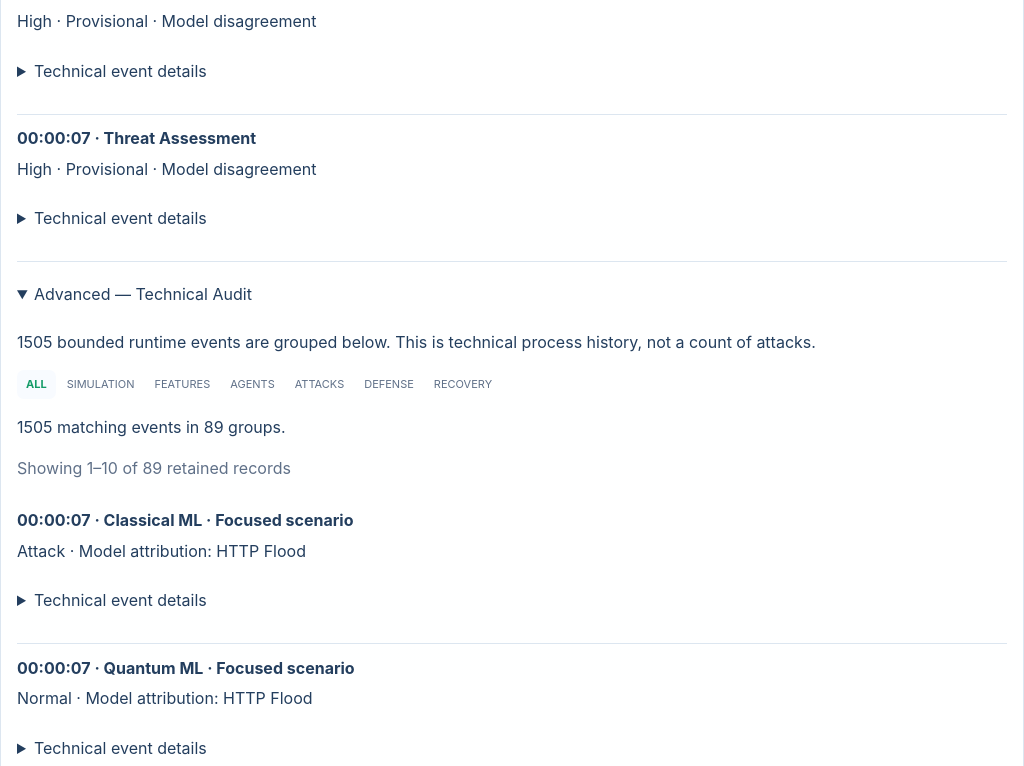
Phase 3 compact evidence hierarchy › defaults to a bounded Important Events view and keeps 1000+ processing events in audit
This screenshot has width=1024, height=766.
(page scrolled)
Click the button "Features".
click(182, 385)  # box left=145, top=370, right=219, bottom=399
(page scrolled)
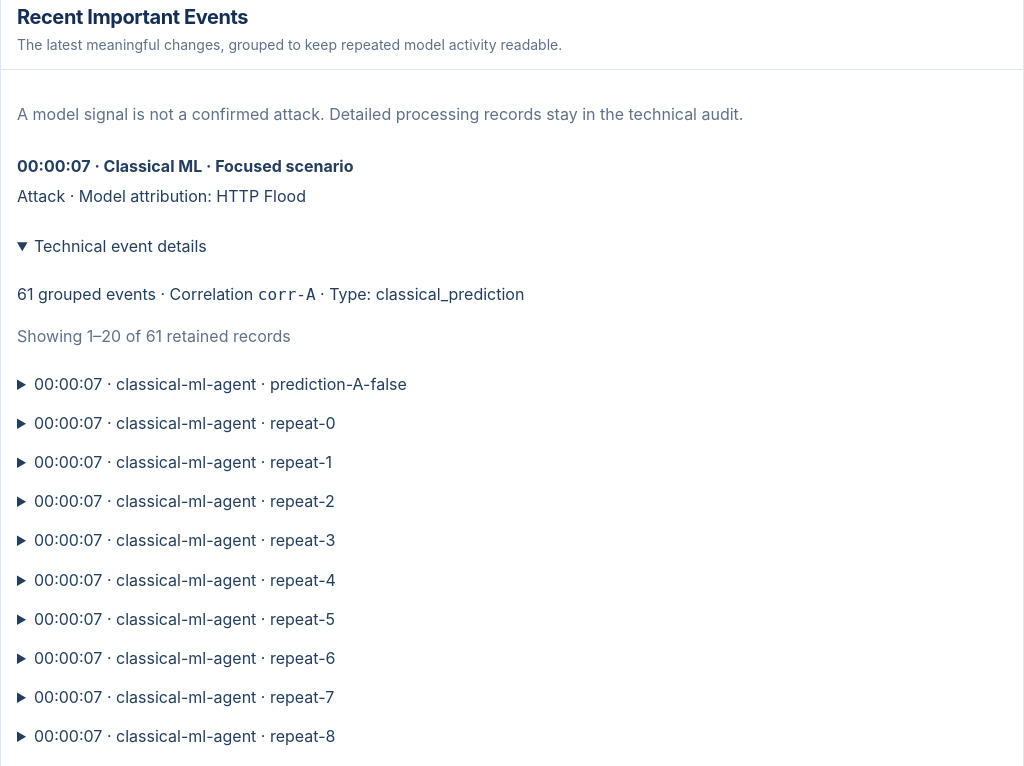
Expected: the element showing "00:00:07 · classical-ml-agent · prediction-A-false" is shown, left=34, top=374, right=407, bottom=394
